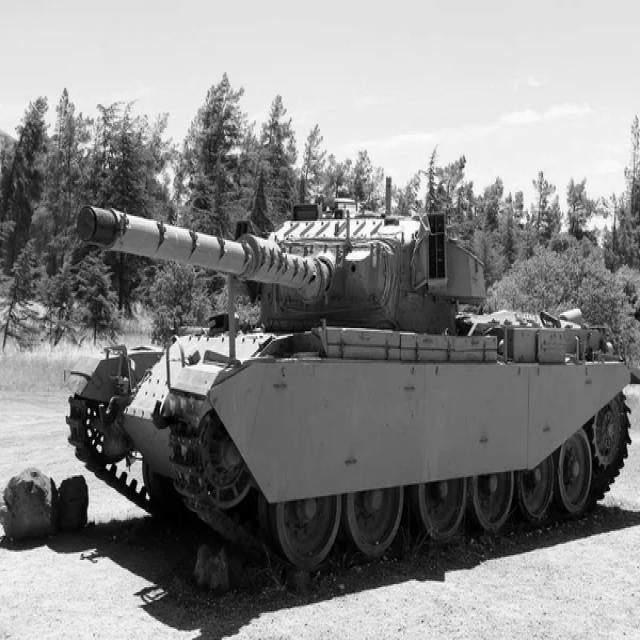Tank: (67, 183, 632, 588)
